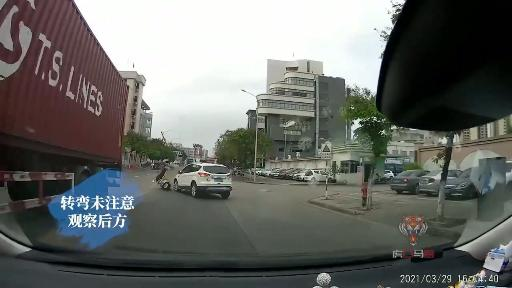Accident: (154, 161, 238, 206)
Bike: (154, 169, 174, 193)
CAR: (176, 162, 235, 204), (390, 165, 424, 196), (447, 173, 480, 201), (296, 169, 332, 184), (424, 169, 445, 191)
Truck: (4, 0, 124, 210)
